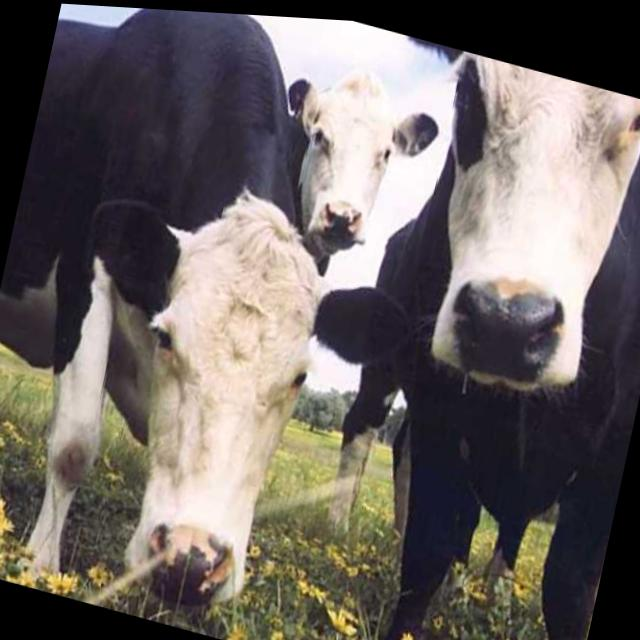cowFace: (16, 150, 437, 640), (309, 19, 640, 428)
